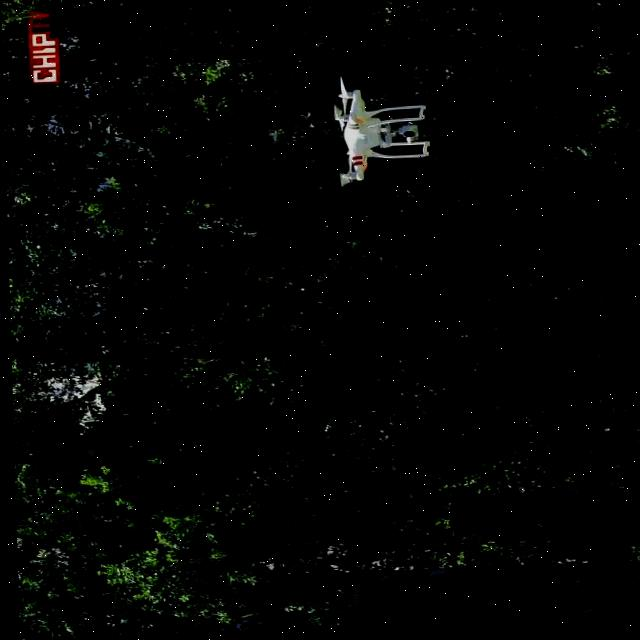drone: (325, 77, 430, 193)
